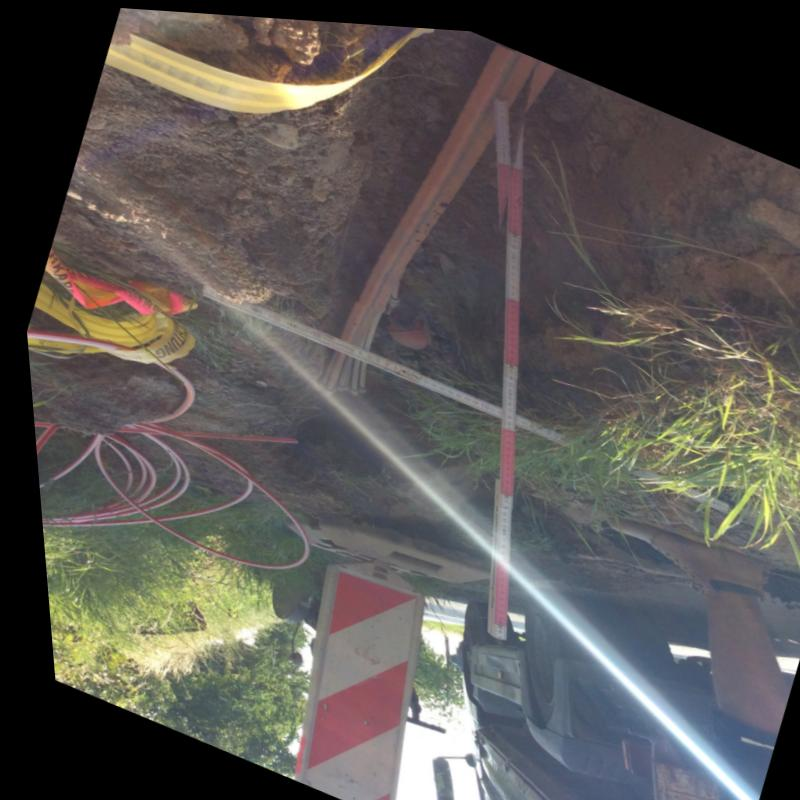Kugelmarker: (382, 310, 426, 341)
Orang-Speednetrohrchen: (350, 37, 539, 305)
